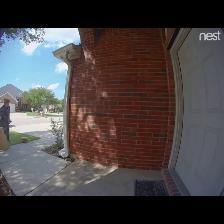person: (0, 99, 9, 141)
